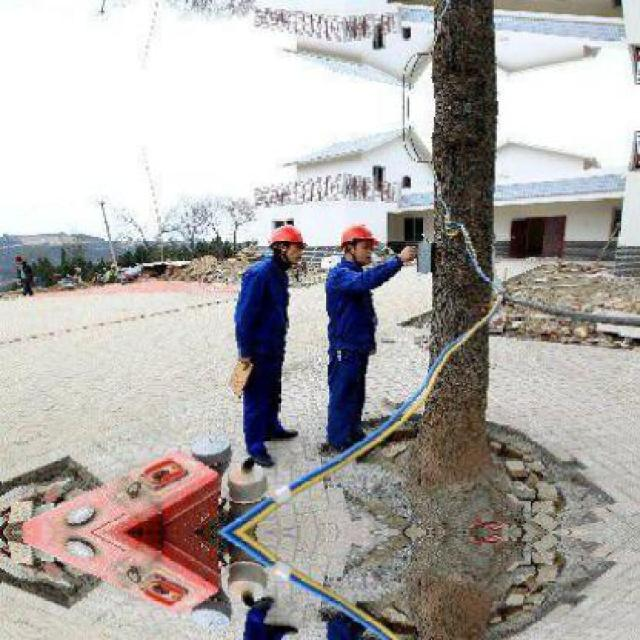helmet: (338, 219, 378, 261), (268, 219, 304, 264)
